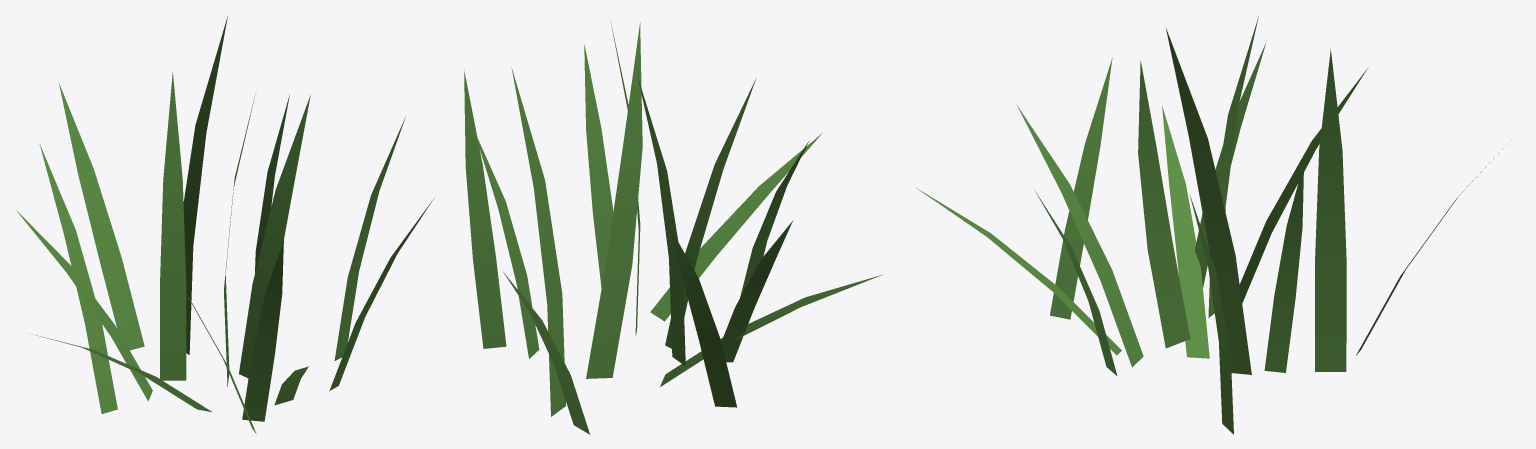
Rendered from Grass.fbx.
The picture shows the model from 3 angles, left to right: view 1: azimuth 30°, elevation 25°; view 2: azimuth 150°, elevation 25°; view 3: azimuth 270°, elevation 25°; orthographic projection. The views are drawn at different scales.
Visible parts, largest first — view 1: pPlane12; view 2: pPlane12; view 3: pPlane12.
Part boxes in pixels (<box>): pPlane12: <box>15,16,433,433</box>; pPlane12: <box>464,21,882,434</box>; pPlane12: <box>916,16,1511,434</box>.
Bounding box in the file's own units: 0.0253 × 0.0203 × 0.0314.
